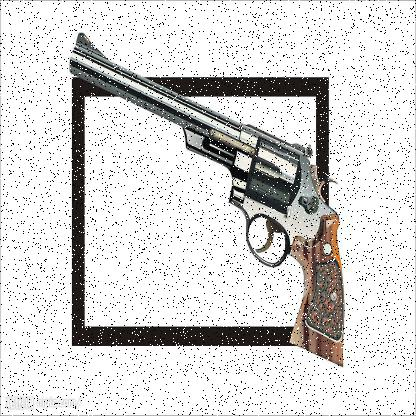pistol: (69, 29, 346, 370)
